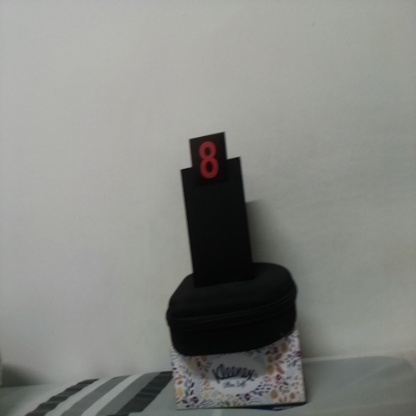id_8: (190, 138, 228, 192)
